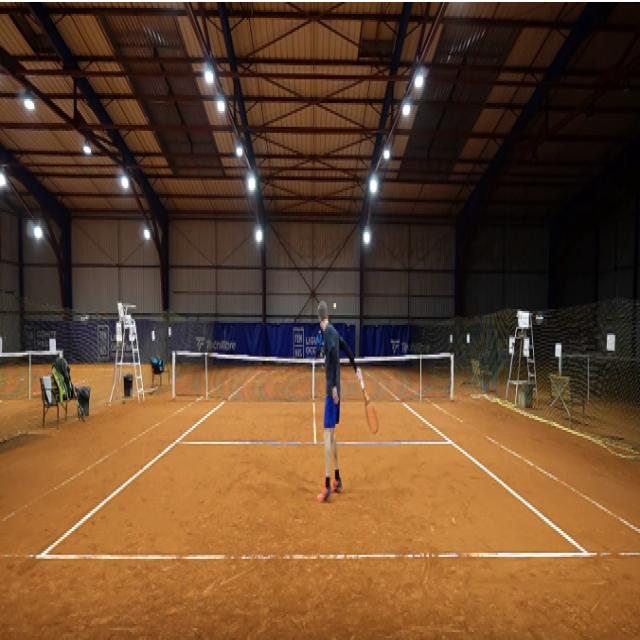ball: (333, 302, 336, 310)
